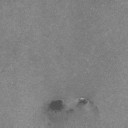iron sheet ash: (48, 99, 64, 112), (77, 96, 87, 106), (68, 108, 74, 112)
